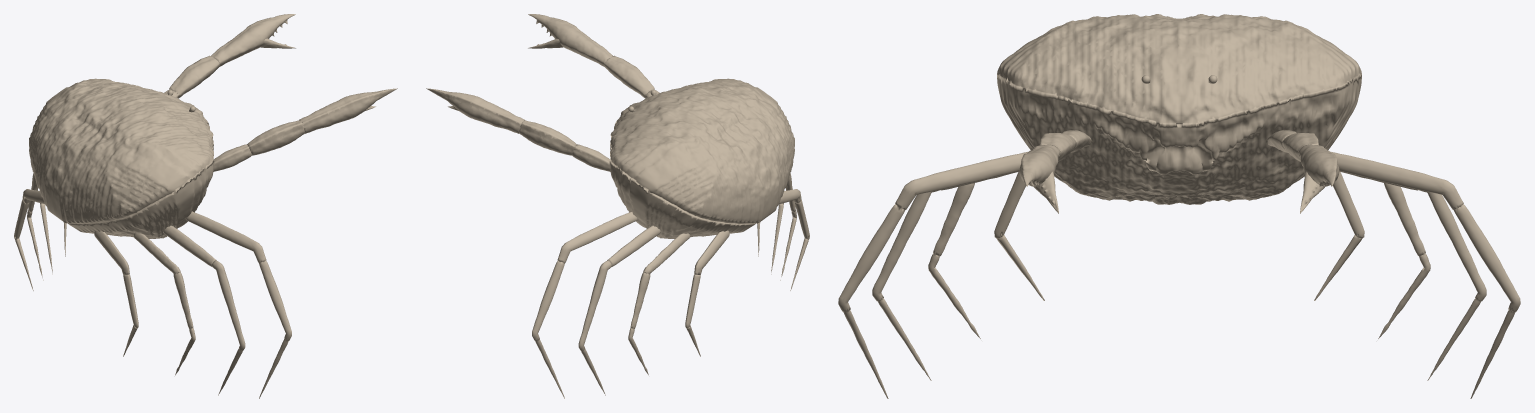
File: 3dcodebench_Crab_seed0.glb
3 views of the same model, side by side, from view 1: azimuth 30°, elevation 25°; view 2: azimuth 150°, elevation 25°; view 3: azimuth 270°, elevation 25° (orthographic). The views are drawn at different scales.
Parts seen in each view (by area): view 1: object; view 2: object; view 3: object.
Boxes of the visible parts, <box> form: object: <box>14,14,397,398</box>; object: <box>426,14,809,398</box>; object: <box>838,14,1520,398</box>.
Size of the model in its own units: 2.14 by 1.63 by 2.85.
